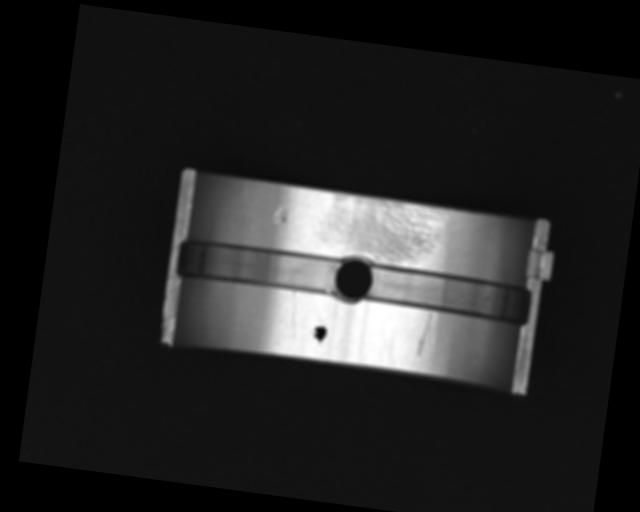blot: (310, 324, 329, 347)
bruise: (273, 204, 289, 224)
gap: (366, 264, 534, 325), (176, 237, 342, 298)
hole: (330, 254, 376, 308)
nick: (414, 311, 440, 359), (287, 290, 301, 336)
scratch: (313, 191, 449, 269)
